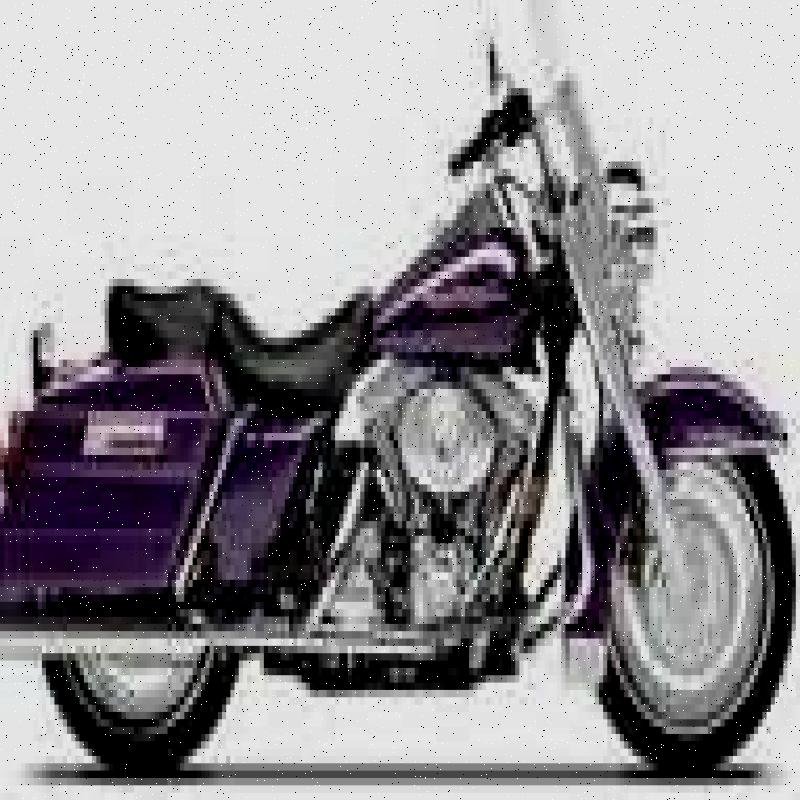bike: (15, 26, 800, 800)
